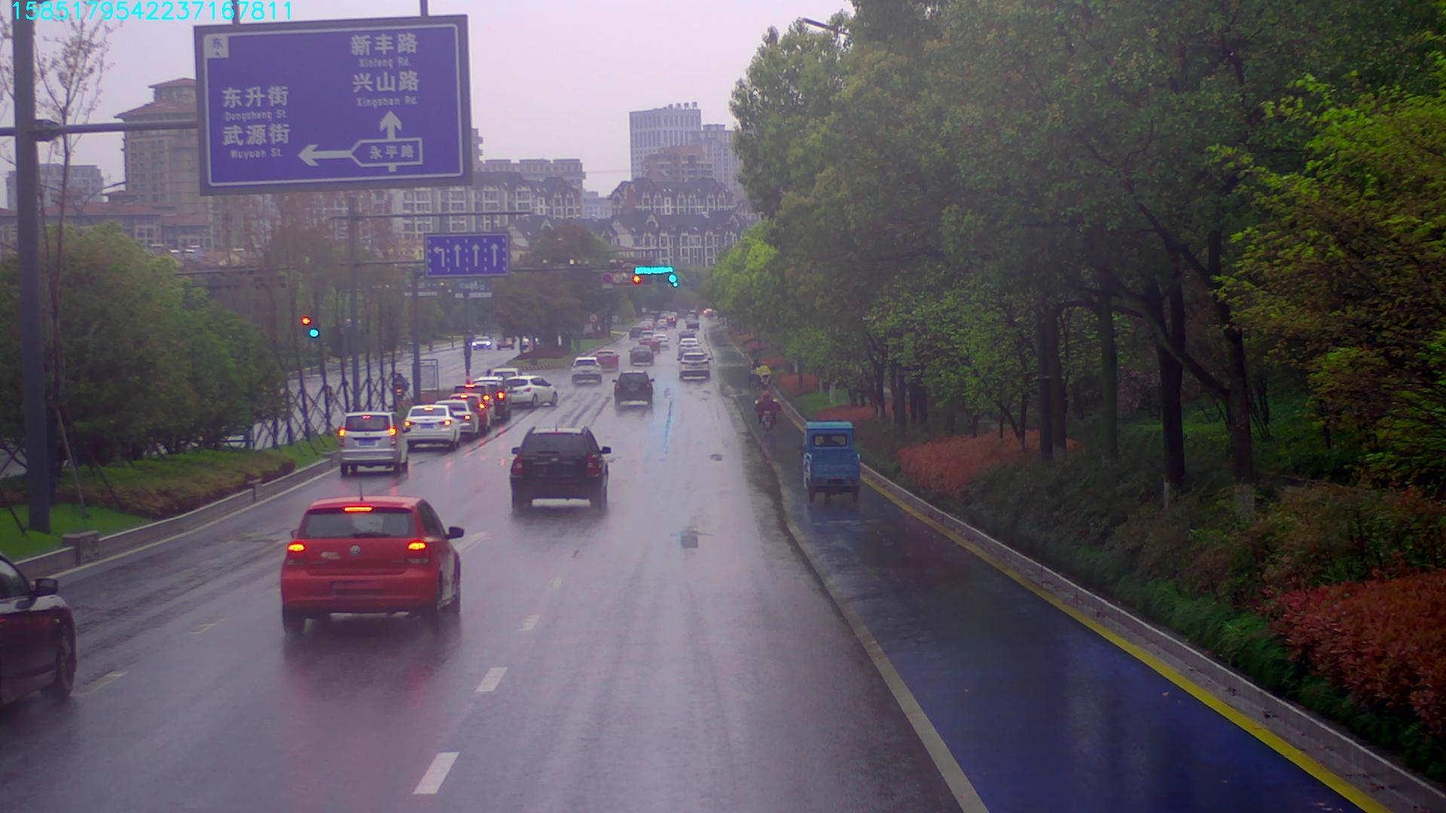green: (654, 276, 676, 286)
red: (632, 275, 651, 286)
wait_on: (632, 264, 673, 273)
